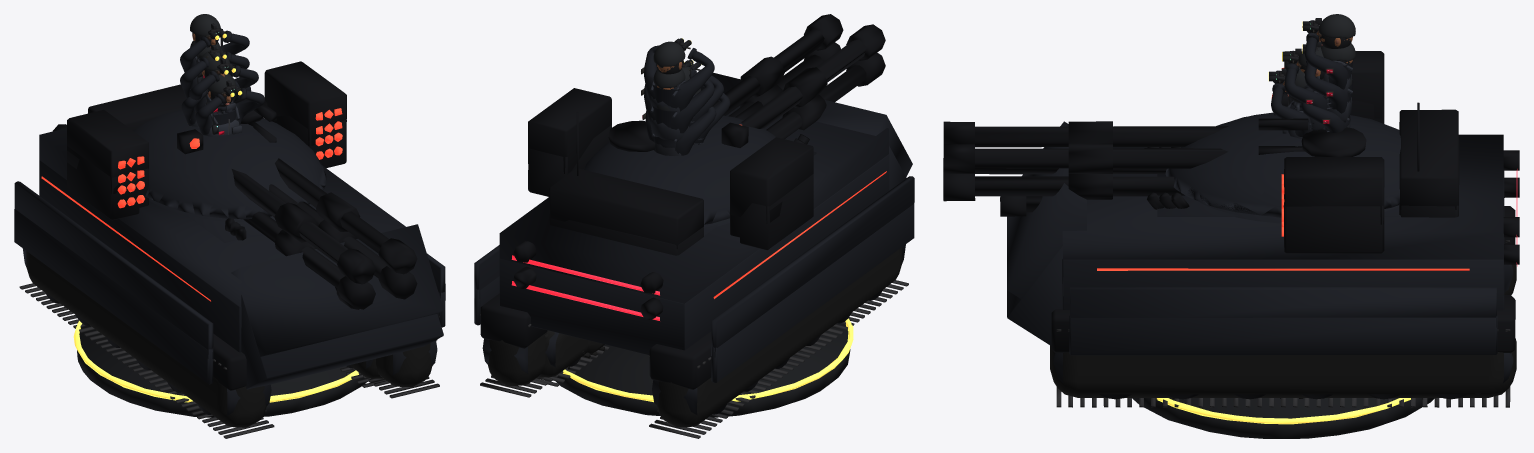
File: bjoern_nat.glb
3 renders of one model, left to right at view 1: azimuth 30°, elevation 25°; view 2: azimuth 150°, elevation 25°; view 3: azimuth 270°, elevation 25°, orthographic. The views are drawn at different scales.
Parts seen in each view (by area): view 1: op4.002_net, ned4_net, fod_net, ned1.001_net, ned2_net, ned2.002_net, op4_net, ned4.003_net, ned3_net, op4.001_net, ned1_net, ned3.002_net; view 2: op4.002_net, ned4_net, fod_net, op4_net, ned4.003_net, ned3_net, ned3.002_net, op4.001_net, ned2_net, ned4.001_net, ned2.002_net, ned1.001_net; view 3: op4.002_net, ned4_net, fod_net, ned2_net, op4_net, ned4.003_net, op4.001_net, ned2.002_net, ned1.001_net, ned3_net, ned3.002_net.
Boxes of the visible parts, <box> form: op4.002_net: <box>14,61,445,390</box>; ned4_net: <box>14,116,445,438</box>; fod_net: <box>73,320,366,417</box>; ned1.001_net: <box>195,85,264,136</box>; ned2_net: <box>188,28,316,242</box>; ned2.002_net: <box>189,63,258,131</box>; op4_net: <box>180,28,249,123</box>; ned4.003_net: <box>180,49,249,119</box>; ned3_net: <box>265,287,385,411</box>; op4.001_net: <box>190,14,223,47</box>; ned1_net: <box>208,73,238,106</box>; ned3.002_net: <box>181,81,251,126</box>; op4.002_net: <box>474,14,914,389</box>; ned4_net: <box>474,42,914,438</box>; fod_net: <box>555,318,853,417</box>; op4_net: <box>641,42,714,155</box>; ned4.003_net: <box>641,64,714,150</box>; ned3_net: <box>535,330,658,411</box>; ned3.002_net: <box>642,94,716,155</box>; op4.001_net: <box>653,38,687,74</box>; ned2_net: <box>545,101,816,369</box>; ned4.001_net: <box>653,63,687,89</box>; ned2.002_net: <box>684,63,724,144</box>; ned1.001_net: <box>694,93,730,143</box>; op4.002_net: <box>943,51,1519,353</box>; ned4_net: <box>943,99,1519,407</box>; fod_net: <box>1132,398,1434,438</box>; ned2_net: <box>1144,102,1422,399</box>; op4_net: <box>1304,20,1353,127</box>; ned4.003_net: <box>1304,47,1353,131</box>; op4.001_net: <box>1310,14,1355,48</box>; ned2.002_net: <box>1284,50,1326,130</box>; ned1.001_net: <box>1271,70,1312,138</box>; ned3_net: <box>1000,196,1042,216</box>; ned3.002_net: <box>1301,85,1349,132</box>.
Bounding box in the file's own units: 1.94 × 2.19 × 3.24.
